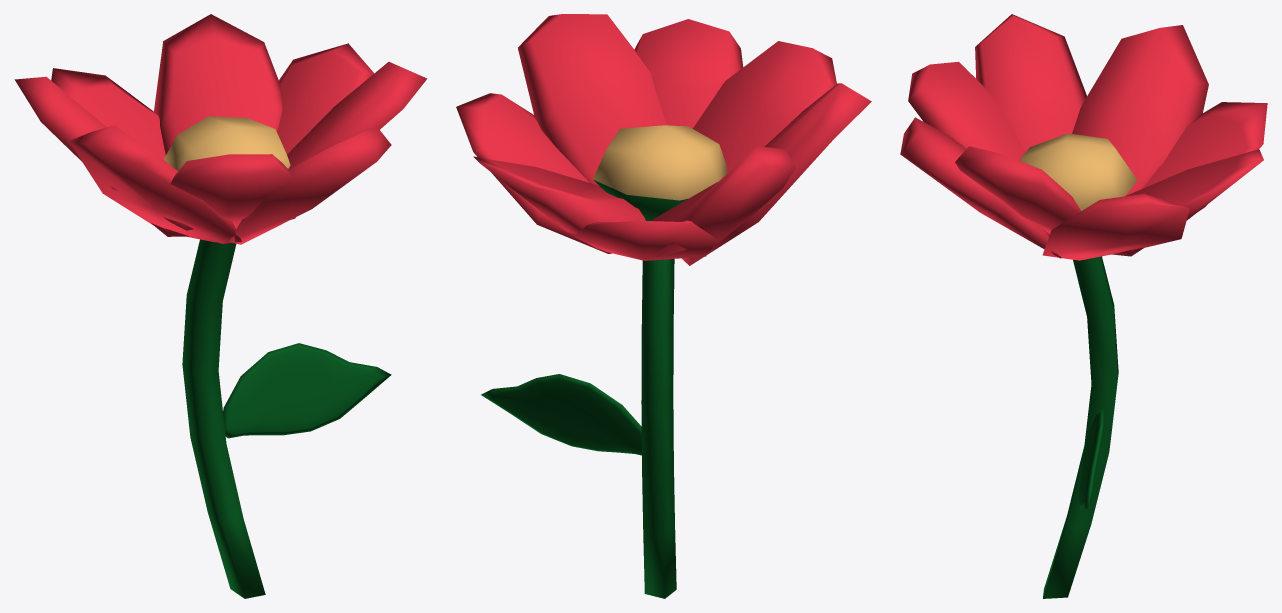
File: props_Flower_C.fbx
3 views of the same model, side by side, from view 1: azimuth 30°, elevation 25°; view 2: azimuth 150°, elevation 25°; view 3: azimuth 270°, elevation 25° (orthographic). The views are drawn at different scales.
Parts seen in each view (by area): view 1: fleur_c; view 2: fleur_c; view 3: fleur_c.
Part boxes in pixels (left/top/right/bottom): fleur_c: left=14, top=14, right=427, bottom=598; fleur_c: left=456, top=14, right=871, bottom=598; fleur_c: left=900, top=14, right=1267, bottom=598.
Size of the model in its own units: 39.82 by 57.59 by 38.02.
